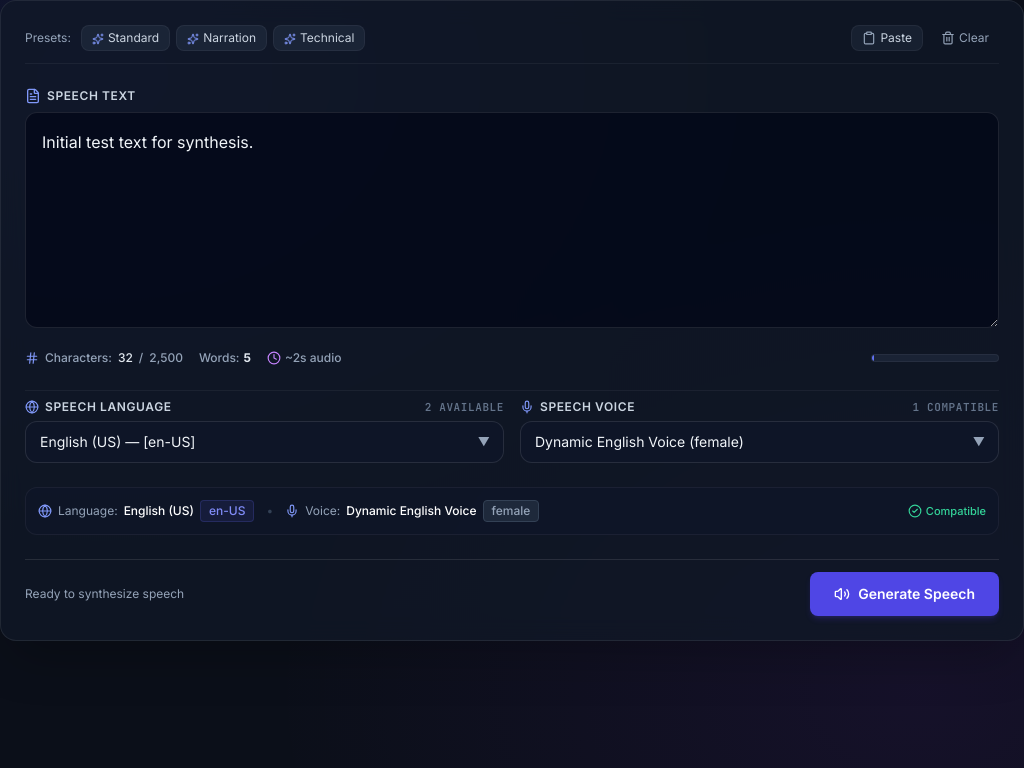
Test: TextWorkspace Component › clears incompatible voice when language changes to an unsupported locale
Note: Currently voice-dyn-en is selected. Changing language to es-ES should clear voiceId
Step 1. Select "Spanish (Spain) — [es-ES]" in the dropdown labelled "Speech Language 2 available" → (264, 442), box [25, 421, 504, 463]
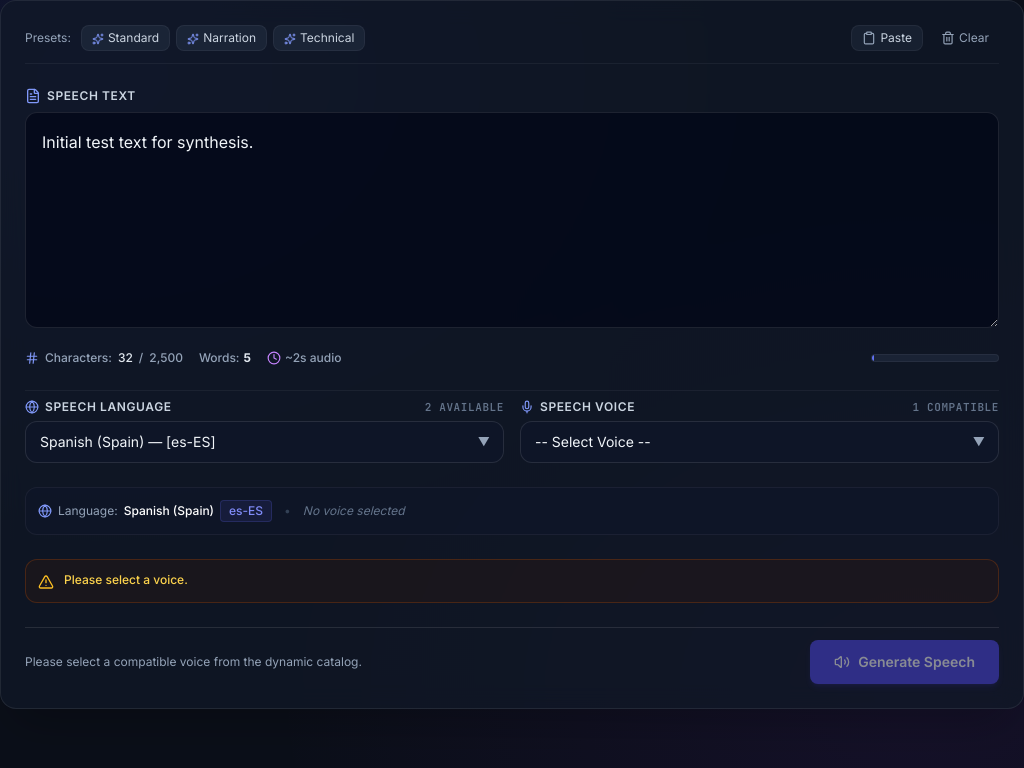
Result: the text "es-ES" is shown at [220, 500, 272, 522]
